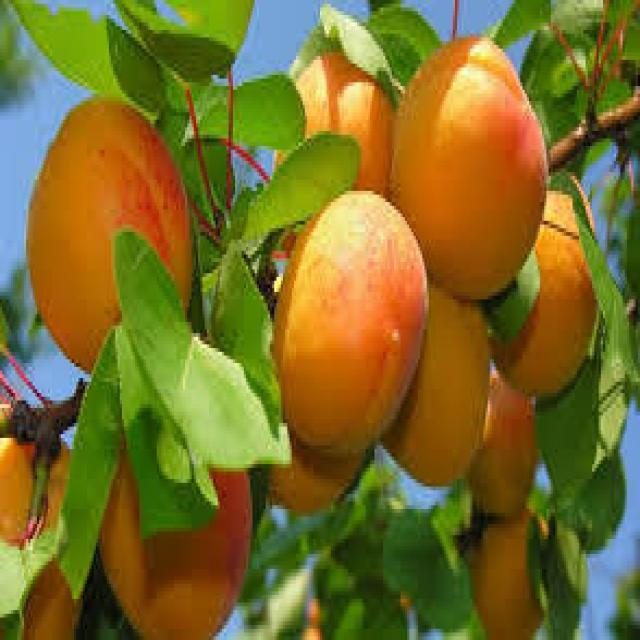kayisi: (23, 92, 196, 374), (271, 185, 429, 458), (388, 30, 542, 301), (385, 282, 493, 482), (470, 370, 539, 524), (474, 507, 550, 640)
yaprak: (111, 220, 294, 542), (8, 0, 196, 120), (53, 317, 126, 612), (228, 128, 362, 252), (314, 0, 445, 91), (185, 71, 311, 159), (111, 0, 235, 83)
